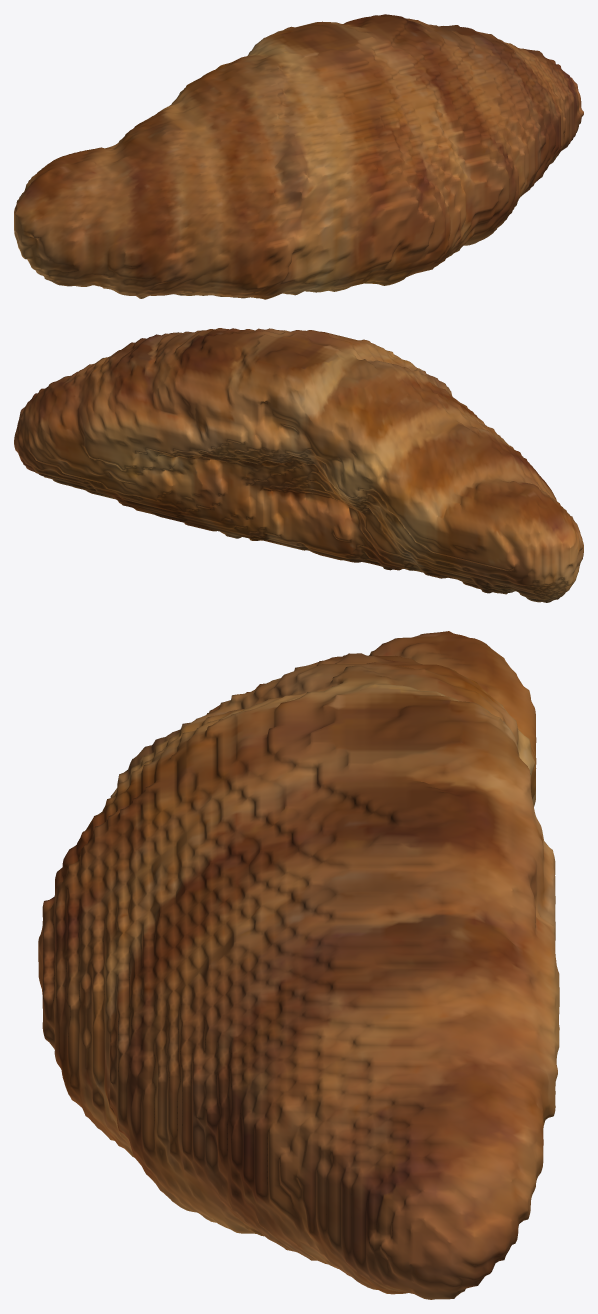
File: croissant-real.glb
3 renders of one model, top to bottom at view 1: azimuth 30°, elevation 25°; view 2: azimuth 150°, elevation 25°; view 3: azimuth 270°, elevation 25°, orthographic. The views are drawn at different scales.
Visible parts, largest first — view 1: croissant-real; view 2: croissant-real; view 3: croissant-real.
Part boxes in pixels (x1,y1,x2,y2): croissant-real: (14,14,583,299); croissant-real: (14,328,583,602); croissant-real: (38,631,559,1299).
Size of the model in its own units: 0.1 by 0.0342 by 0.0406.
